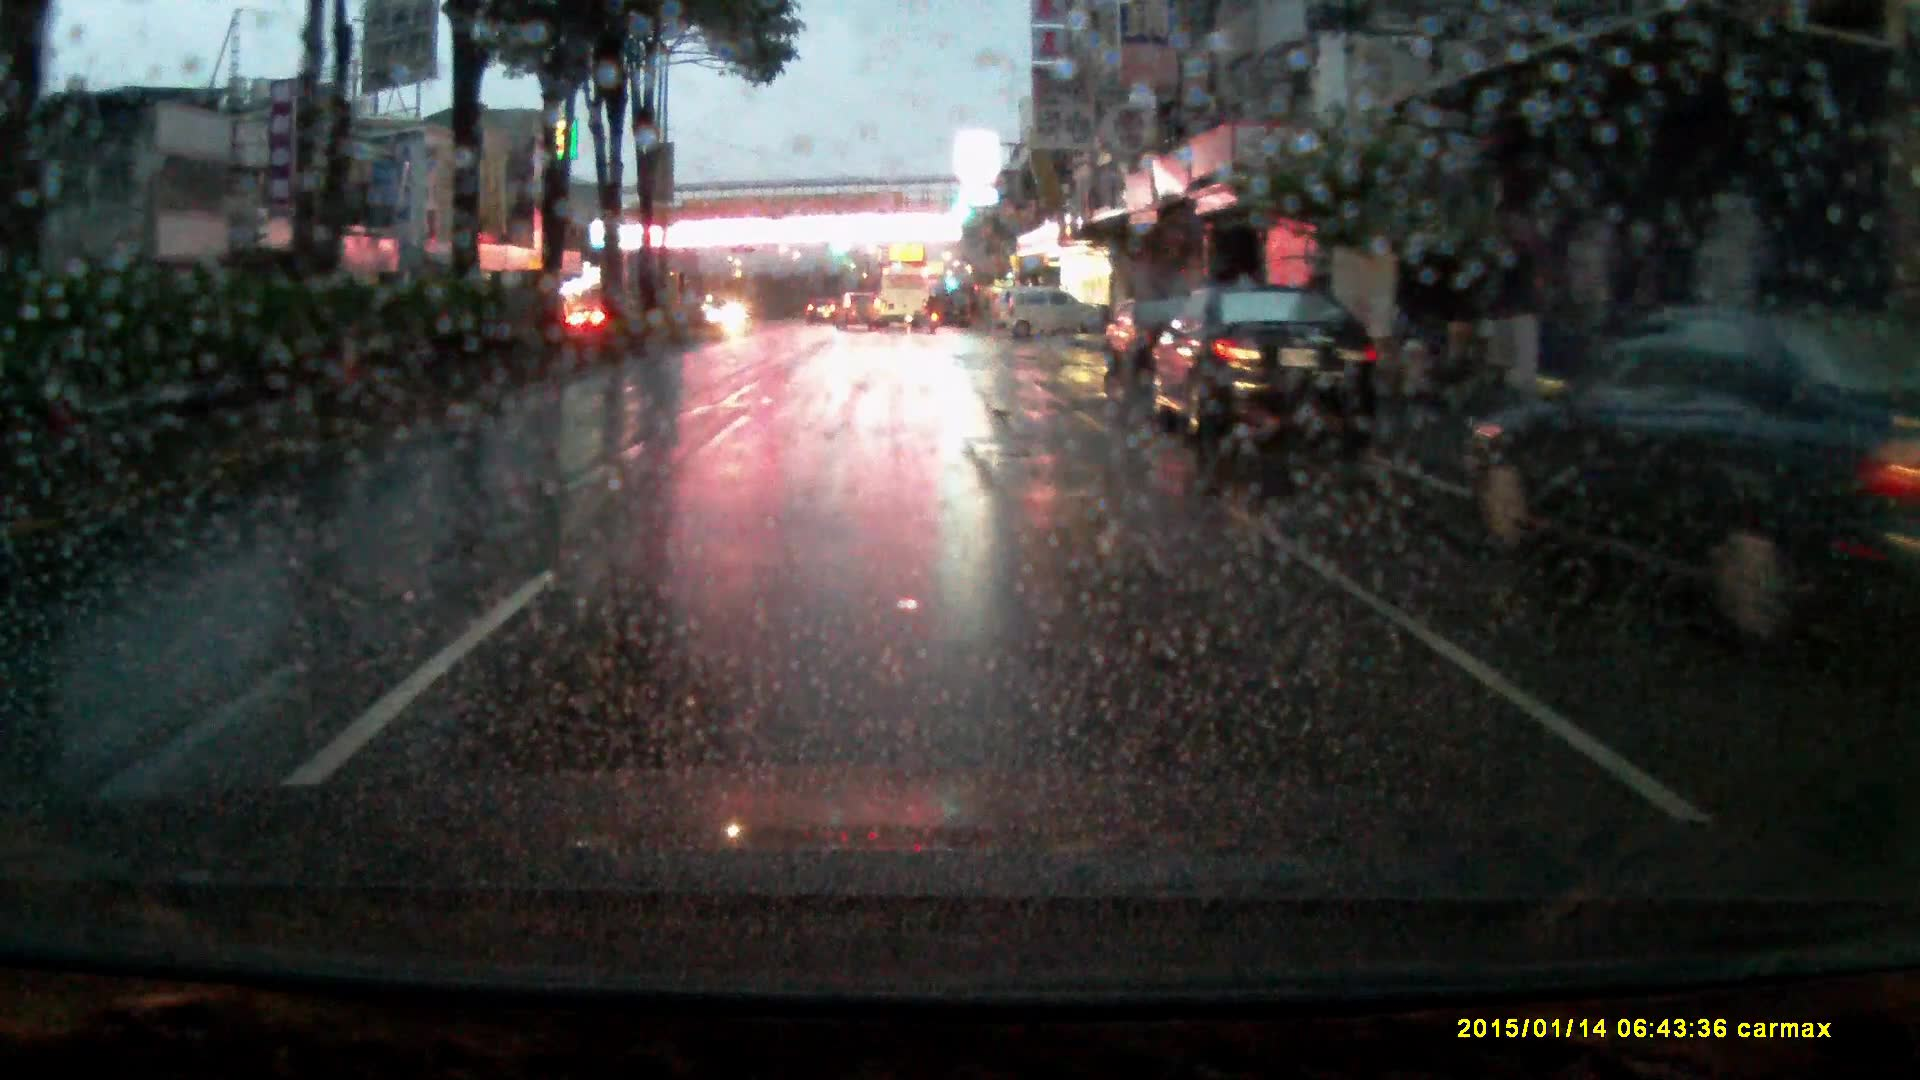vehicle: (1457, 305, 1920, 650), (1150, 284, 1378, 455), (1100, 298, 1199, 381), (1002, 287, 1101, 347), (865, 269, 931, 334), (835, 293, 884, 335), (806, 297, 839, 327)
